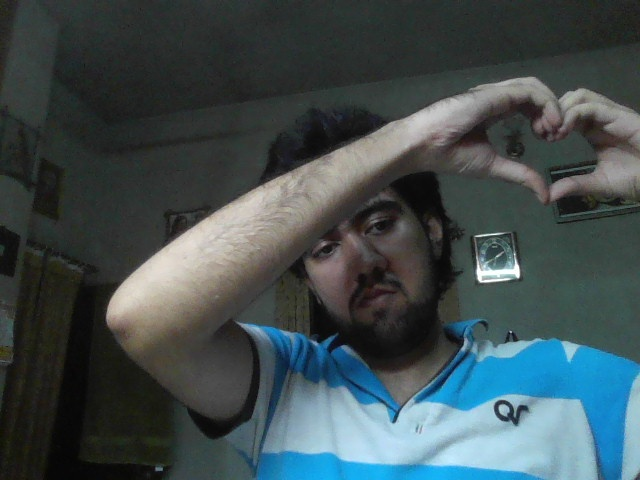Love: (433, 77, 640, 206)
